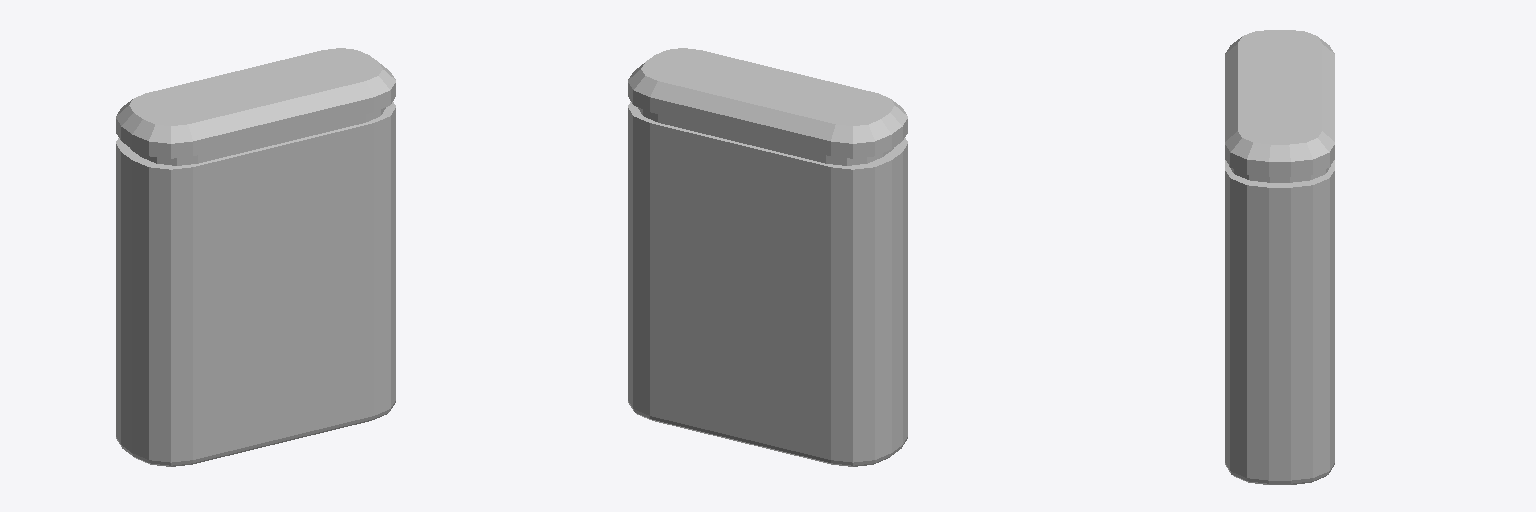
Rendered from Lotion.obj.
3 views of the same model, side by side, from view 1: azimuth 30°, elevation 25°; view 2: azimuth 150°, elevation 25°; view 3: azimuth 270°, elevation 25° (orthographic).
Parts seen in each view (by area): view 1: WashLotion; view 2: WashLotion; view 3: WashLotion.
Boxes of the visible parts, x1,y1,x2,y2 form: WashLotion: [116, 48, 395, 466]; WashLotion: [628, 48, 907, 466]; WashLotion: [1225, 30, 1334, 484].
Bounding box in the file's own units: 13.32 × 16.66 × 4.96.